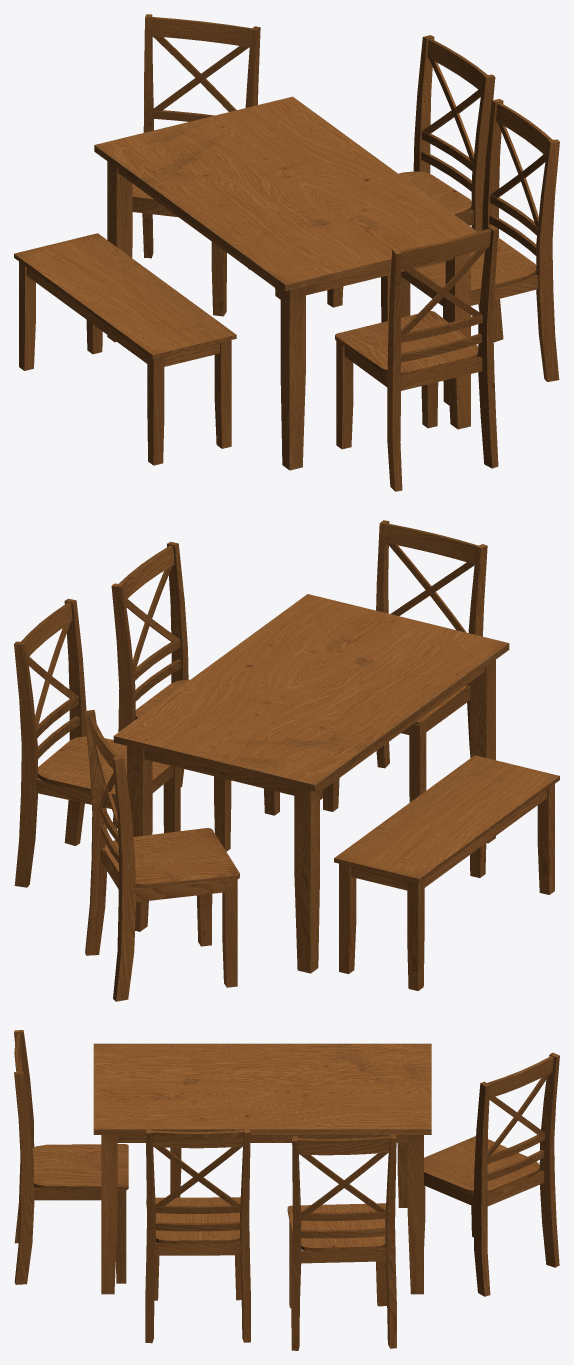
The model's file is kitchen_table_chairs_and_bench_low_poly.glb.
3 renders of one model, top to bottom at view 1: azimuth 30°, elevation 25°; view 2: azimuth 150°, elevation 25°; view 3: azimuth 270°, elevation 25°, orthographic. The views are drawn at different scales.
Visible parts, largest first — view 1: Table_low, Bench_low, Chair1_low, Chair4_low, Chair3_low, Chair2_low; view 2: Table_low, Bench_low, Chair2_low, Chair3_low, Chair4_low, Chair1_low; view 3: Table_low, Chair2_low, Chair3_low, Chair4_low, Chair1_low, Bench_low.
Part boxes in pixels (bbox=[...]): Table_low: bbox=[94, 96, 477, 470]; Bench_low: bbox=[14, 233, 236, 465]; Chair1_low: bbox=[335, 225, 498, 491]; Chair4_low: bbox=[400, 99, 559, 405]; Chair3_low: bbox=[327, 35, 495, 322]; Chair2_low: bbox=[132, 14, 260, 316]; Table_low: bbox=[113, 594, 509, 973]; Bench_low: bbox=[334, 755, 559, 990]; Chair2_low: bbox=[84, 710, 239, 1001]; Chair3_low: bbox=[14, 598, 180, 887]; Chair4_low: bbox=[111, 541, 279, 851]; Chair1_low: bbox=[323, 520, 487, 811]; Table_low: bbox=[93, 1043, 431, 1294]; Chair2_low: bbox=[424, 1052, 559, 1296]; Chair3_low: bbox=[287, 1134, 396, 1350]; Chair4_low: bbox=[145, 1128, 250, 1343]; Chair1_low: bbox=[14, 1030, 128, 1284]; Bench_low: bbox=[170, 1143, 407, 1207].
Bounding box in the file's own units: 1.88 × 1.03 × 2.42.
Materials: 1 (1 with a texture image).
